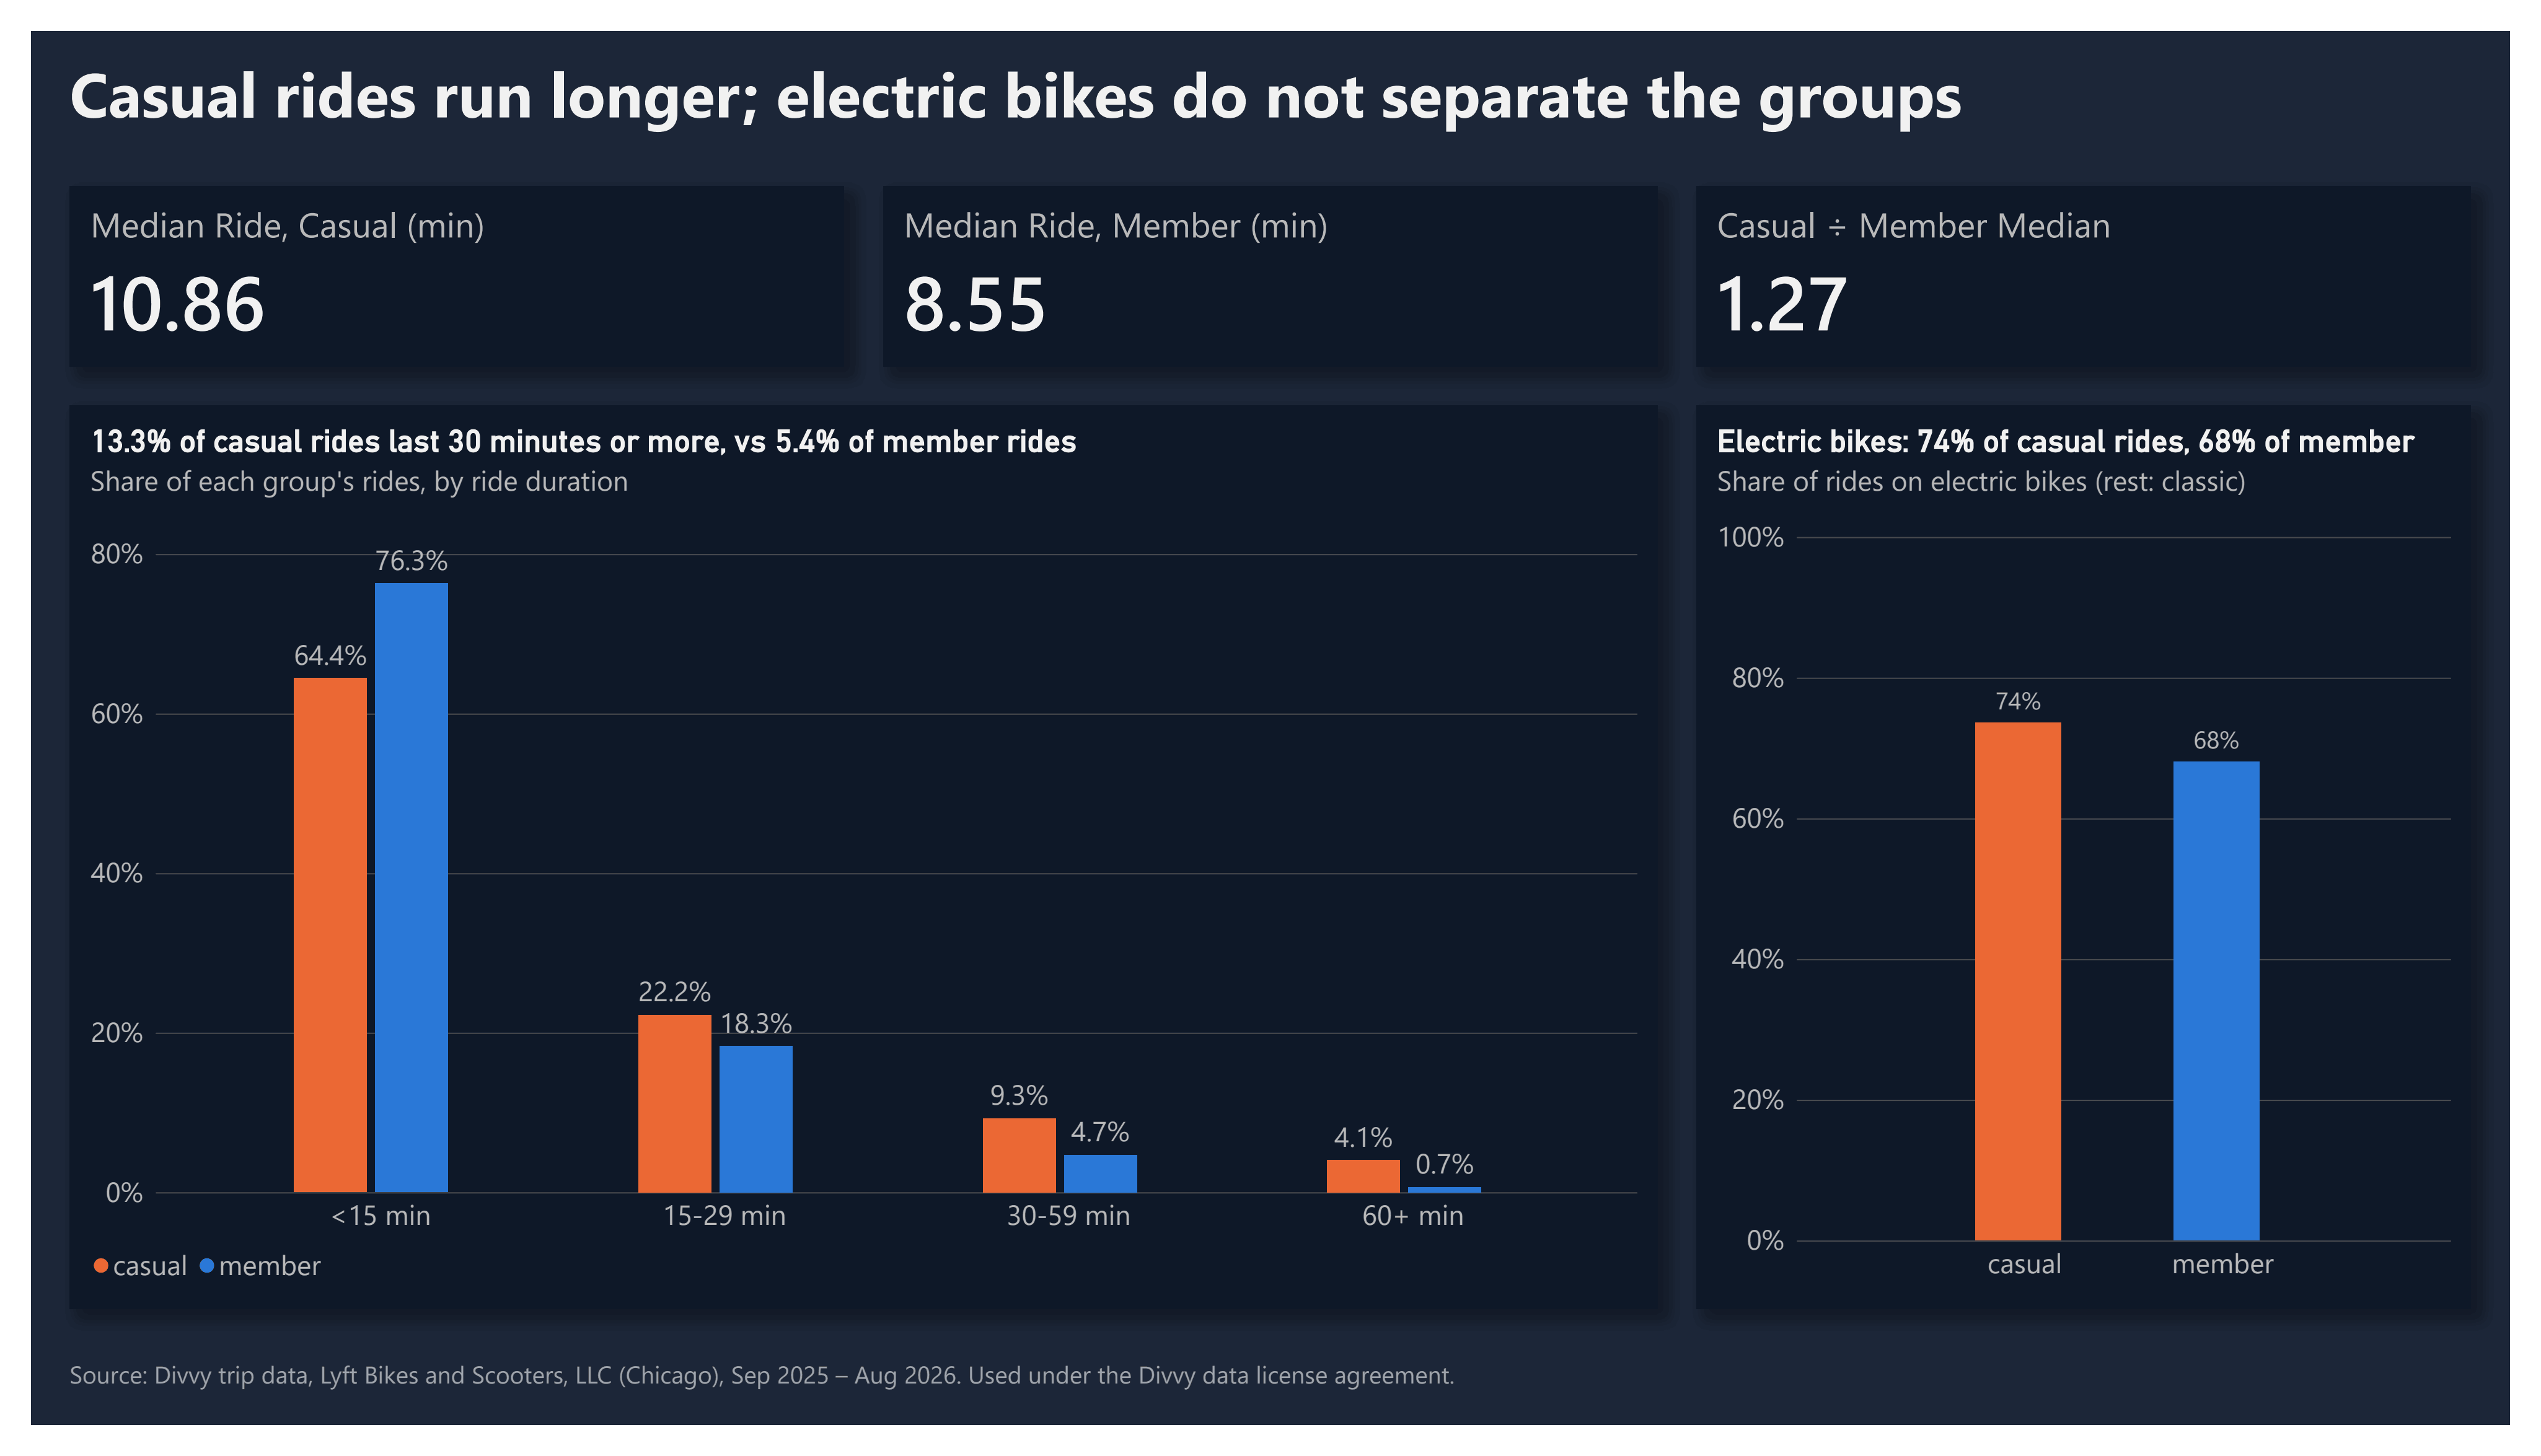

Layout of this report page (visuals, bound fields, positions):
{"tool":"powerbi","page":{"name":"How long and what bike","canvas":[1920,1080],"ordinal":2},"visuals":[{"type":"textbox","box":[30,15,1860,75],"z":0},{"type":"textbox","box":[30,1028,1860,42],"z":1000},{"type":"cardVisual","fields":{"Data":["median_overall.Casual Median Minutes"]},"box":[30,120,600,140],"z":2000},{"type":"cardVisual","fields":{"Data":["median_overall.Member Median Minutes"]},"box":[660,120,600,140],"z":3000},{"type":"cardVisual","fields":{"Data":["median_overall.Median Ratio"]},"box":[1290,120,600,140],"z":4000},{"type":"clusteredColumnChart","title":"13.3% of casual rides last 30 minutes or more, vs 5.4% of member rides","fields":{"Category":["fact_rides.duration_bucket"],"Series":["fact_rides.member_casual"],"Y":["fact_rides.Share of Group Rides"]},"box":[30,290,1230,700],"z":5000},{"type":"clusteredColumnChart","title":"Electric bikes: 74% of casual rides, 68% of member","fields":{"Category":["fact_rides.member_casual"],"Y":["fact_rides.Electric Share"]},"box":[1290,290,600,700],"z":6000}]}

Visuals, with their boxes on the page's 1920x1080 design canvas (x1, y1, x2, y2). These are canvas units, not pixel positions in the 2541x1456 screenshot, which may show the page scaled, cropped or inside an application window:
textbox: [left=30, top=15, right=1890, bottom=90]
textbox: [left=30, top=1028, right=1890, bottom=1070]
cardVisual - median_overall.Casual Median Minutes: [left=30, top=120, right=630, bottom=260]
cardVisual - median_overall.Member Median Minutes: [left=660, top=120, right=1260, bottom=260]
cardVisual - median_overall.Median Ratio: [left=1290, top=120, right=1890, bottom=260]
"13.3% of casual rides last 30 minutes or more, vs 5.4% of member rides" clusteredColumnChart: [left=30, top=290, right=1260, bottom=990]
"Electric bikes: 74% of casual rides, 68% of member" clusteredColumnChart: [left=1290, top=290, right=1890, bottom=990]
